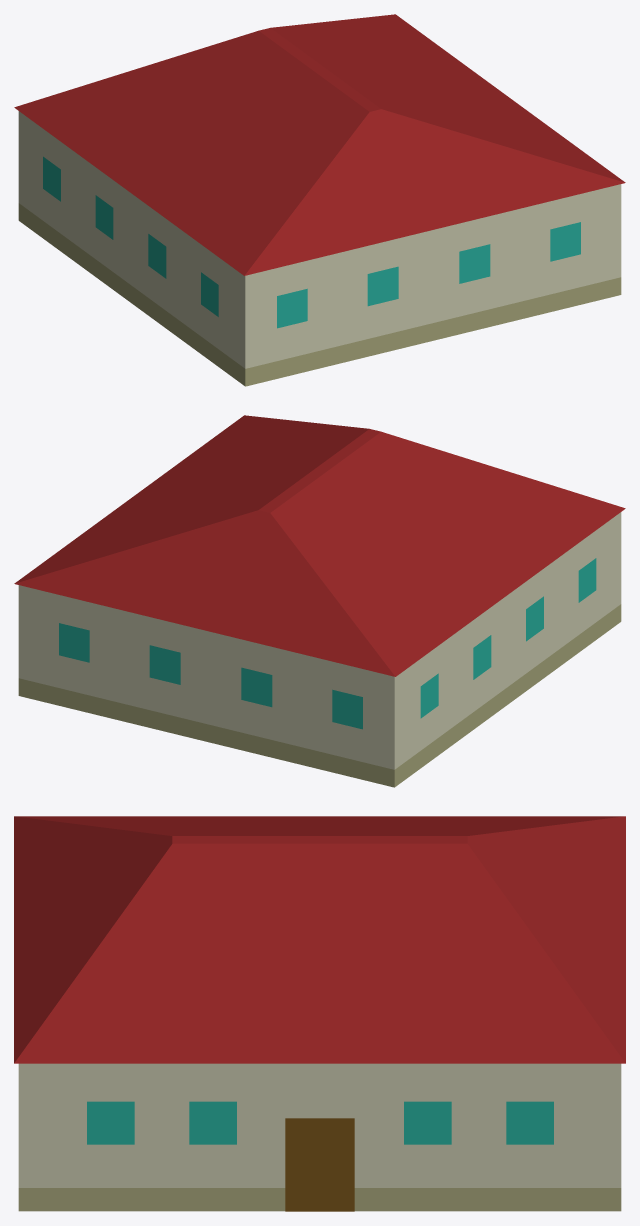
Rendered from House3.gltf.
3 renders of one model, top to bottom at view 1: azimuth 30°, elevation 25°; view 2: azimuth 150°, elevation 25°; view 3: azimuth 270°, elevation 25°, orthographic. The views are drawn at different scales.
Parts seen in each view (by area): view 1: House3; view 2: House3; view 3: House3.
Boxes of the visible parts, box(x1,y1,x2,y2) form: House3: box(14, 14, 625, 386); House3: box(14, 415, 625, 787); House3: box(14, 816, 625, 1211).
Bounding box in the file's own units: 3.15 × 1.48 × 3.29.
